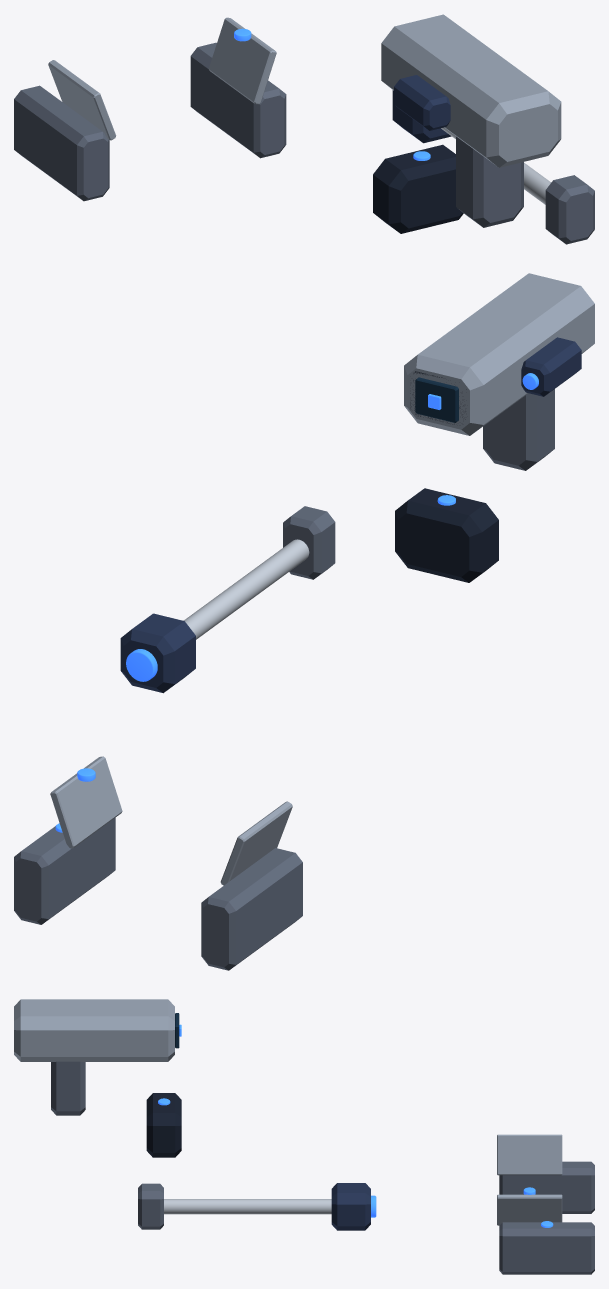
File: tower_lance_range_s7.glb
3 renders of one model, top to bottom at view 1: azimuth 30°, elevation 25°; view 2: azimuth 150°, elevation 25°; view 3: azimuth 270°, elevation 25°, orthographic. The views are drawn at different scales.
Parts seen in each view (by area): view 1: lance_optic_long, lance_shroud_ext_r, lance_optic_shade_deep, lance_shroud_ext_l, lance_optic_riser, lance_stab_fin_l, lance_designator_mount, lance_rangefinder, lance_stab_fin_r, lance_designator_head, lance_designator_boom; view 2: lance_optic_long, lance_shroud_ext_r, lance_optic_shade_deep, lance_shroud_ext_l, lance_optic_riser, lance_designator_head, lance_stab_fin_l, lance_designator_boom, lance_designator_mount, lance_stab_fin_r, lance_rangefinder, lance_optic_long_lens; view 3: lance_optic_long, lance_shroud_ext_l, lance_shroud_ext_r, lance_stab_fin_r, lance_designator_boom, lance_optic_shade_deep, lance_stab_fin_l, lance_optic_riser, lance_designator_head, lance_designator_mount.
Part boxes in pixels (<box>): lance_optic_long: <box>381,14,561,167</box>; lance_shroud_ext_r: <box>14,85,109,201</box>; lance_optic_shade_deep: <box>373,144,463,233</box>; lance_shroud_ext_l: <box>190,42,286,158</box>; lance_optic_riser: <box>456,136,523,227</box>; lance_stab_fin_l: <box>209,17,276,104</box>; lance_designator_mount: <box>545,175,594,244</box>; lance_rangefinder: <box>394,75,450,130</box>; lance_stab_fin_r: <box>48,60,116,140</box>; lance_designator_head: <box>392,90,451,143</box>; lance_designator_boom: <box>441,127,551,204</box>; lance_optic_long: <box>404,273,594,435</box>; lance_shroud_ext_r: <box>201,848,302,970</box>; lance_optic_shade_deep: <box>395,488,498,582</box>; lance_shroud_ext_l: <box>14,818,115,924</box>; lance_optic_riser: <box>483,389,554,470</box>; lance_designator_head: <box>120,613,195,693</box>; lance_stab_fin_l: <box>50,756,122,848</box>; lance_designator_boom: <box>183,539,309,639</box>; lance_designator_mount: <box>283,506,335,579</box>; lance_stab_fin_r: <box>220,801,292,885</box>; lance_rangefinder: <box>521,337,581,396</box>; lance_optic_long_lens: <box>415,377,458,422</box>; lance_optic_long: <box>14,999,174,1061</box>; lance_shroud_ext_l: <box>499,1222,594,1274</box>; lance_shroud_ext_r: <box>499,1161,594,1213</box>; lance_stab_fin_r: <box>497,1134,562,1175</box>; lance_designator_boom: <box>164,1199,331,1214</box>; lance_optic_shade_deep: <box>146,1093,181,1157</box>; lance_stab_fin_l: <box>497,1194,562,1225</box>; lance_optic_riser: <box>51,1061,85,1115</box>; lance_designator_head: <box>331,1183,370,1230</box>; lance_designator_mount: <box>138,1183,163,1229</box>.
Size of the model in its own units: 1.01 by 1.18 by 2.67.
